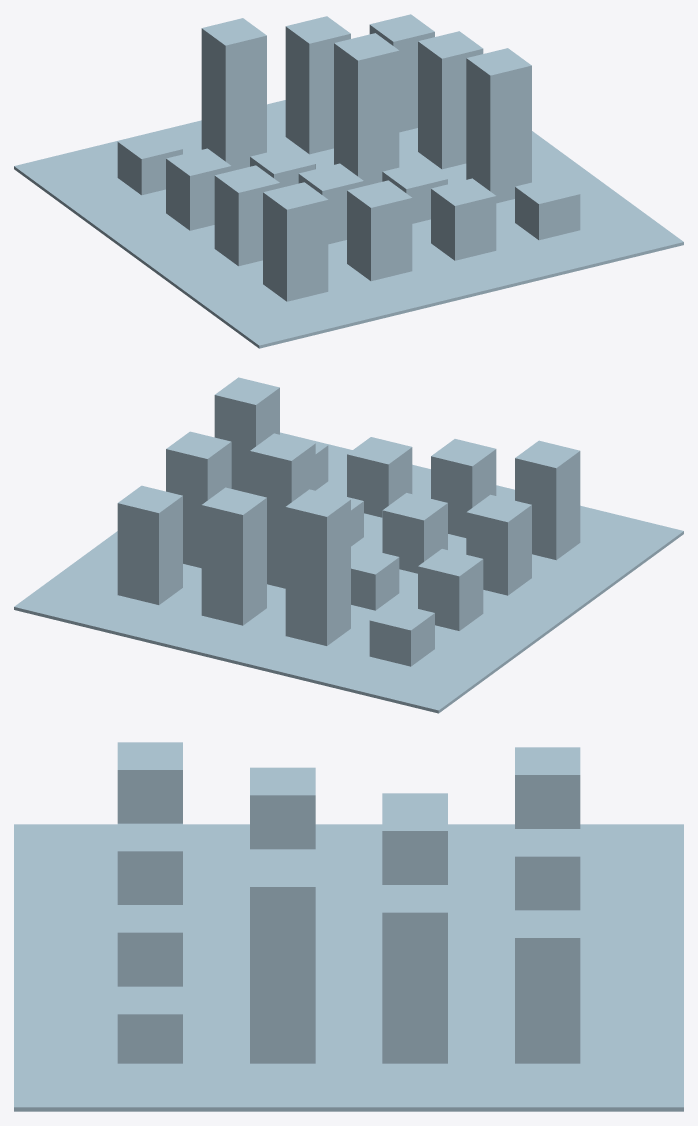
The model's file is city.glb.
3 renders of one model, top to bottom at view 1: azimuth 30°, elevation 25°; view 2: azimuth 150°, elevation 25°; view 3: azimuth 270°, elevation 25°, orthographic. The views are drawn at different scales.
Visible parts, largest first — view 1: City platform, Building 12, Building 7, Building 2, Building 13, Building 3, Building 8, Building 14, Building 9, Building 15, Building 5, Building 16 (+5 smaller); view 2: City platform, Building 2, Building 3, Building 4, Building 13, Building 7, Building 9, Building 8, Building 12, Building 5, Building 14, Building 10 (+5 smaller); view 3: City platform, Building 12, Building 8, Building 4, Building 9, Building 2, Building 7, Building 13, Building 15, Building 3, Building 14, Building 16 (+2 smaller).
Boxes of the visible parts, left/top/right/bottom form: City platform: left=14, top=100, right=683, bottom=348; Building 12: left=466, top=48, right=531, bottom=203; Building 7: left=334, top=33, right=399, bottom=185; Building 2: left=201, top=18, right=266, bottom=170; Building 13: left=263, top=182, right=328, bottom=301; Building 3: left=285, top=16, right=350, bottom=154; Building 8: left=418, top=31, right=483, bottom=169; Building 14: left=347, top=180, right=412, bottom=281; Building 9: left=214, top=165, right=279, bottom=266; Building 15: left=431, top=178, right=496, bottom=260; Building 5: left=166, top=148, right=231, bottom=230; Building 16: left=515, top=176, right=580, bottom=240; City platform: left=14, top=432, right=683, bottom=713; Building 2: left=285, top=489, right=350, bottom=645; Building 3: left=201, top=487, right=266, bottom=625; Building 4: left=117, top=485, right=182, bottom=604; Building 13: left=515, top=440, right=580, bottom=560; Building 7: left=250, top=433, right=315, bottom=588; Building 9: left=466, top=494, right=531, bottom=595; Building 8: left=166, top=431, right=231, bottom=568; Building 12: left=214, top=377, right=279, bottom=493; Building 5: left=418, top=549, right=483, bottom=630; Building 14: left=431, top=439, right=496, bottom=537; Building 10: left=382, top=493, right=447, bottom=573; City platform: left=14, top=824, right=683, bottom=1111; Building 12: left=250, top=859, right=315, bottom=1063; Building 8: left=382, top=885, right=447, bottom=1063; Building 4: left=515, top=910, right=580, bottom=1063; Building 9: left=250, top=767, right=315, bottom=849; Building 2: left=515, top=747, right=580, bottom=828; Building 7: left=382, top=803, right=447, bottom=884; Building 13: left=117, top=742, right=182, bottom=823; Building 15: left=117, top=905, right=182, bottom=986; Building 3: left=515, top=829, right=580, bottom=910; Building 14: left=117, top=823, right=182, bottom=904; Building 16: left=117, top=986, right=182, bottom=1063.
Size of the model in its own units: 430 by 128 by 430.
